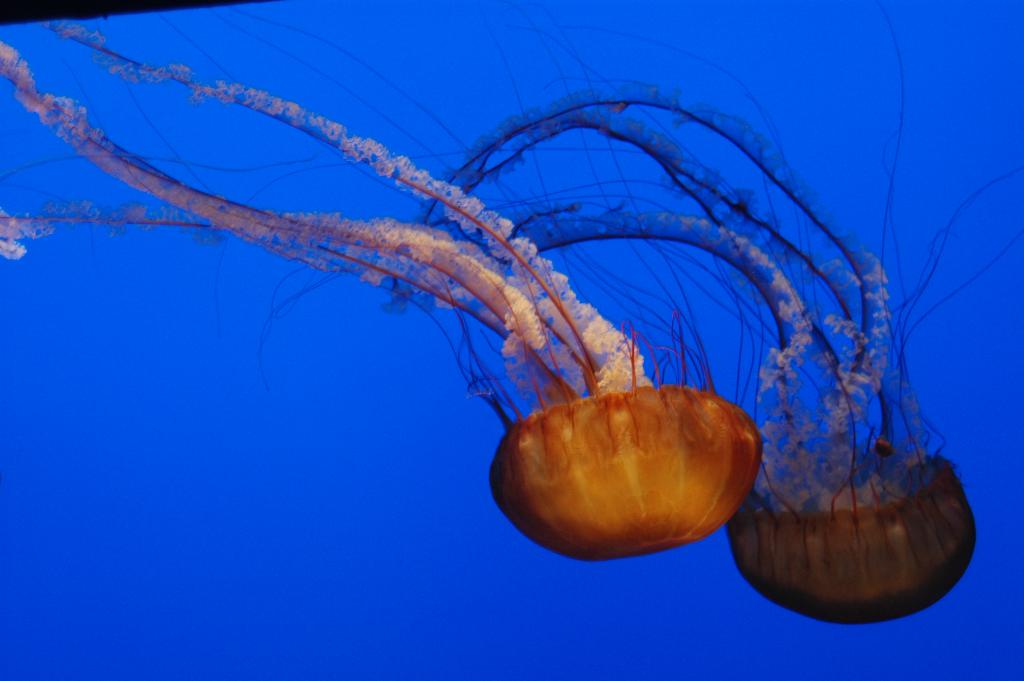Jellyfish: (0, 17, 764, 562), (375, 0, 1023, 634)
